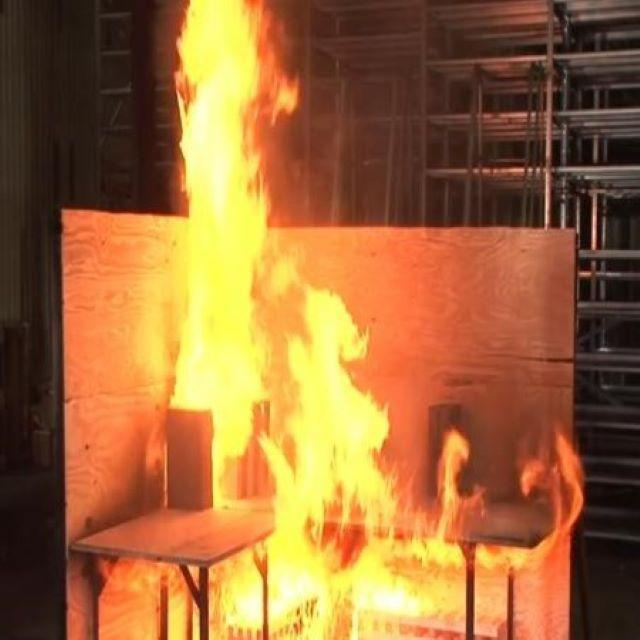Fire: (126, 0, 585, 640)
